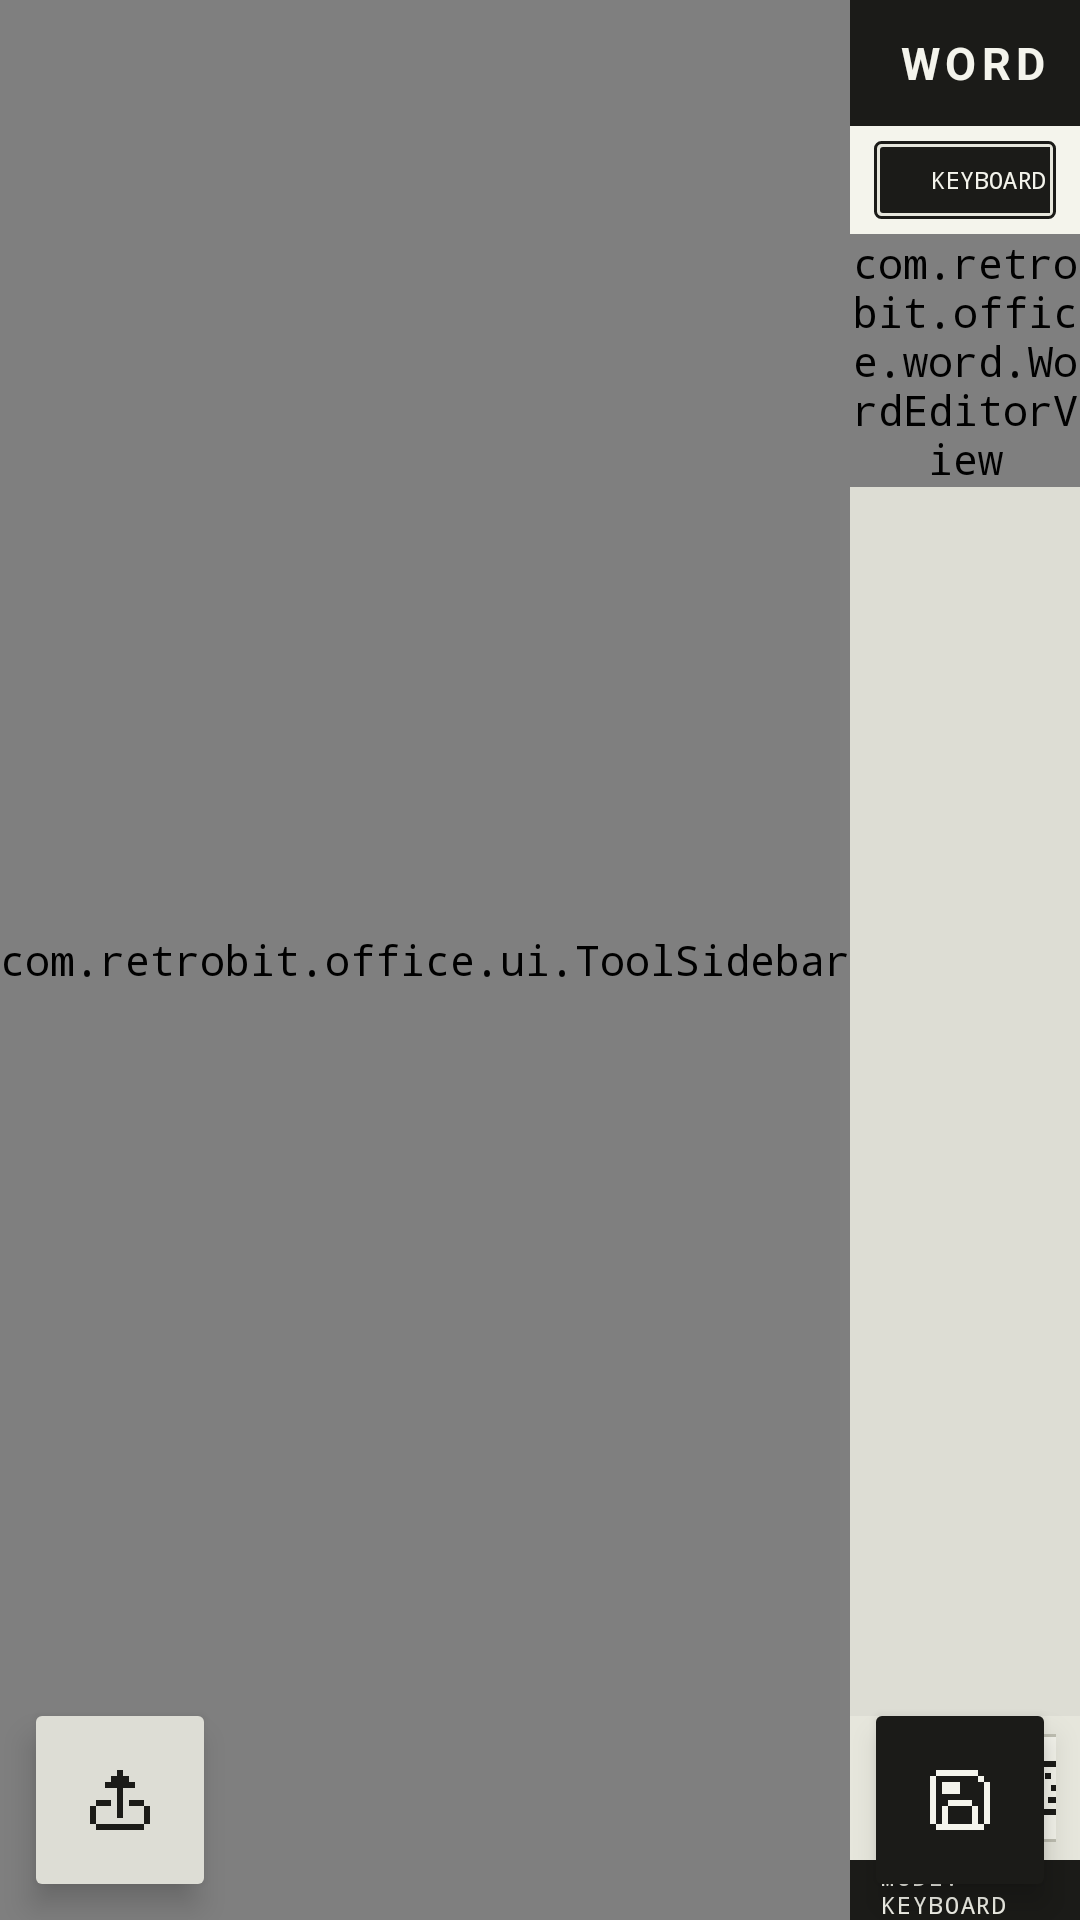

Icons on this 1080×1920 Android screen, each with the point to tap as point (x, y):
Bagikan: point (120, 1800)
